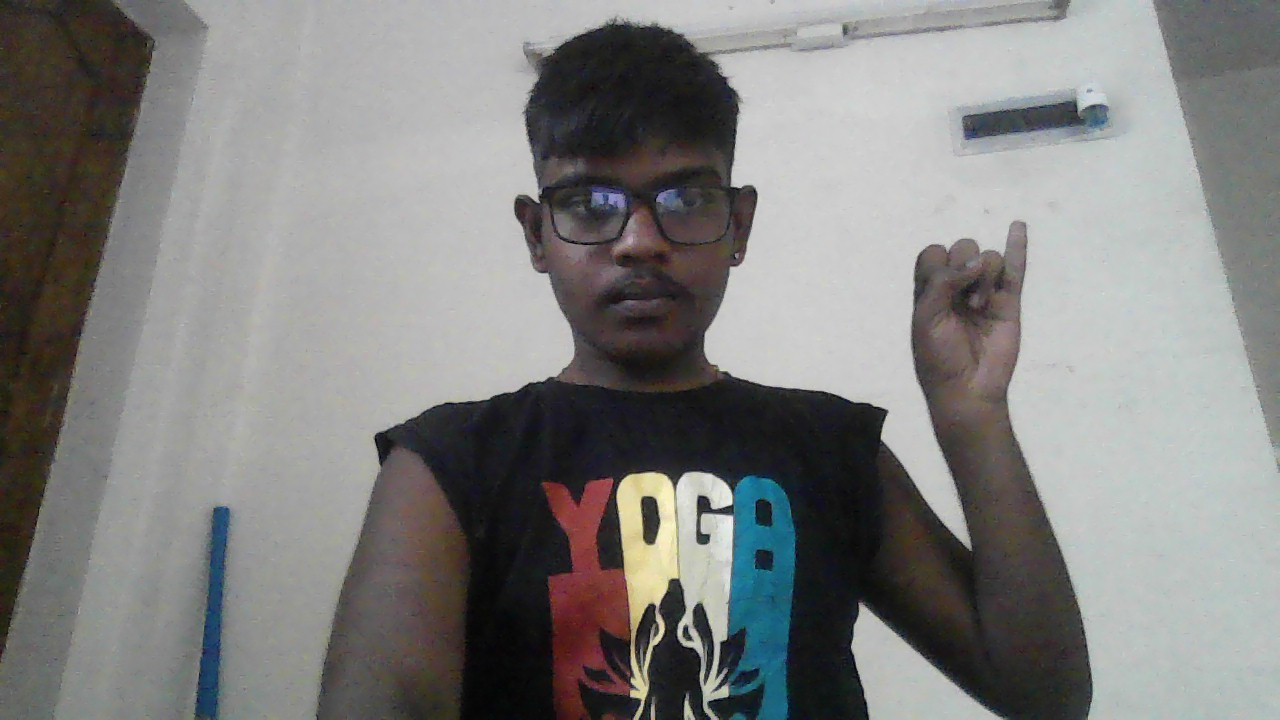I: (911, 219, 1027, 427)
